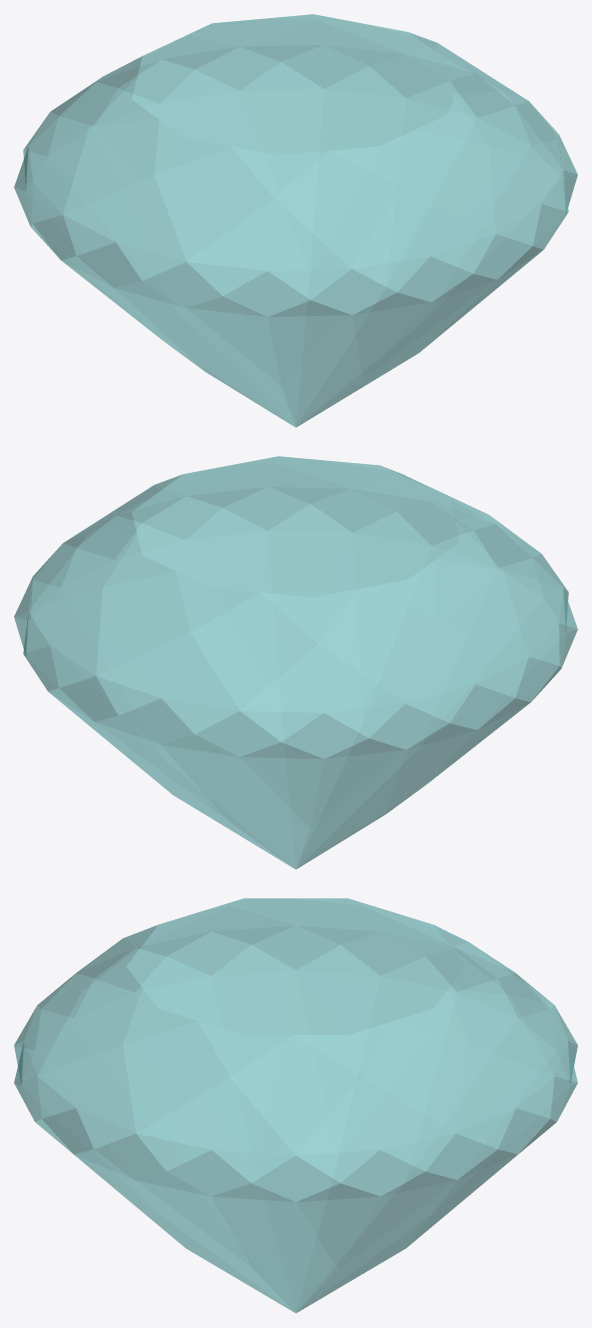
The model's file is Diamand.fbx.
The picture shows the model from 3 angles, top to bottom: view 1: azimuth 30°, elevation 25°; view 2: azimuth 150°, elevation 25°; view 3: azimuth 270°, elevation 25°; orthographic projection.
Visible parts, largest first — view 1: Diamand_msh; view 2: Diamand_msh; view 3: Diamand_msh.
Boxes of the visible parts, x1,y1,x2,y2 form: Diamand_msh: (14, 14, 577, 427); Diamand_msh: (14, 456, 577, 869); Diamand_msh: (14, 898, 577, 1313).
Bounding box in the file's own units: 6.55 × 4.45 × 6.55.
